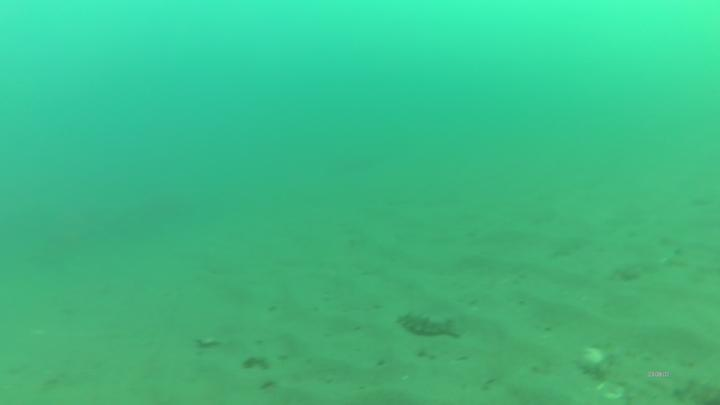echinus: (396, 310, 465, 341)
